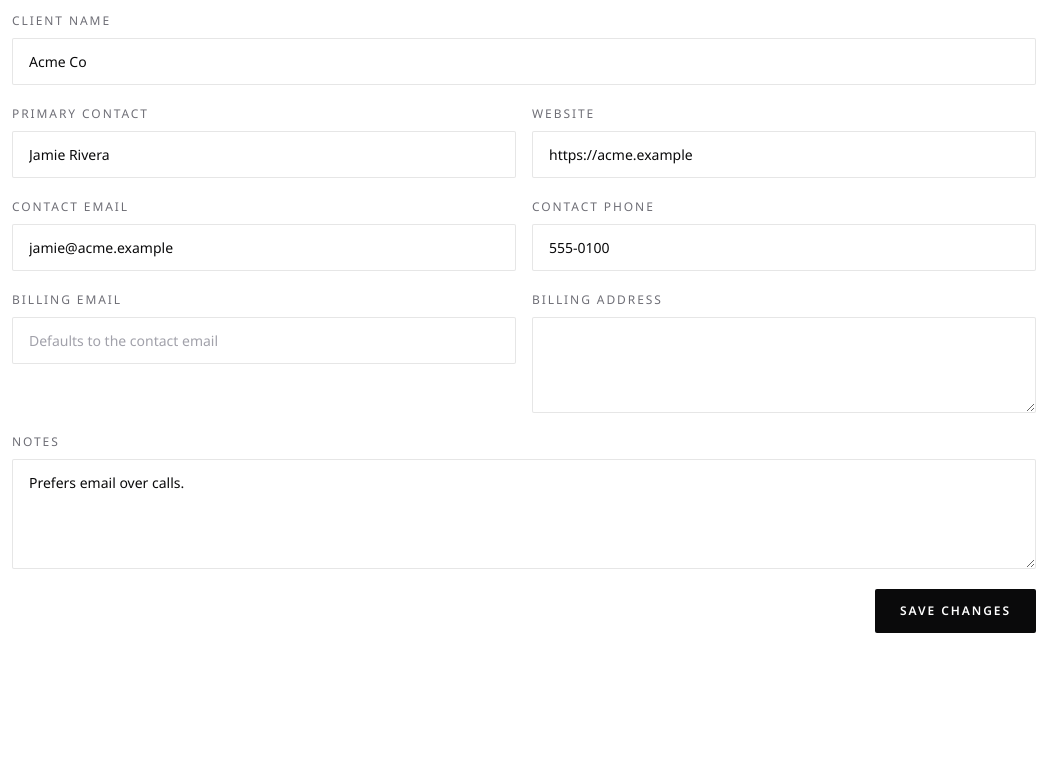
Test: ClientForm — edit mode › shows the server error on failure
The width and height of the screenshot is (1048, 780).
Step 1. Click the button "Save changes" → (956, 611), box x1=875 y1=589 x2=1036 y2=633
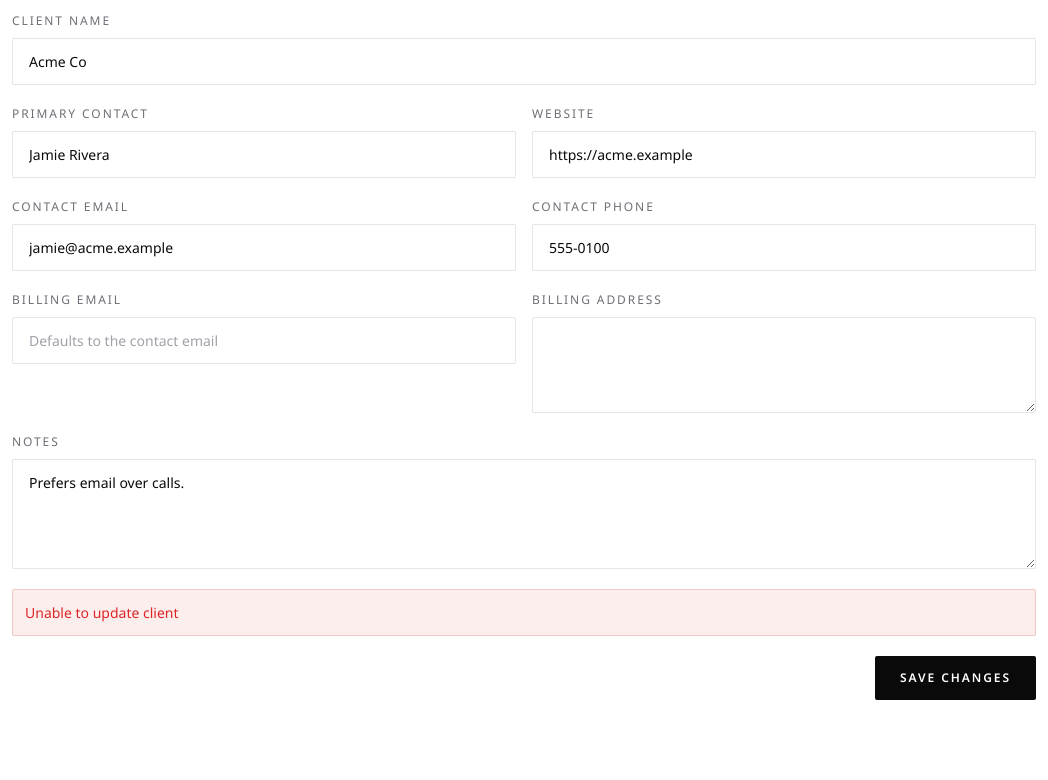
Result: the text "Unable to update client" is shown at x1=12 y1=589 x2=1036 y2=636
